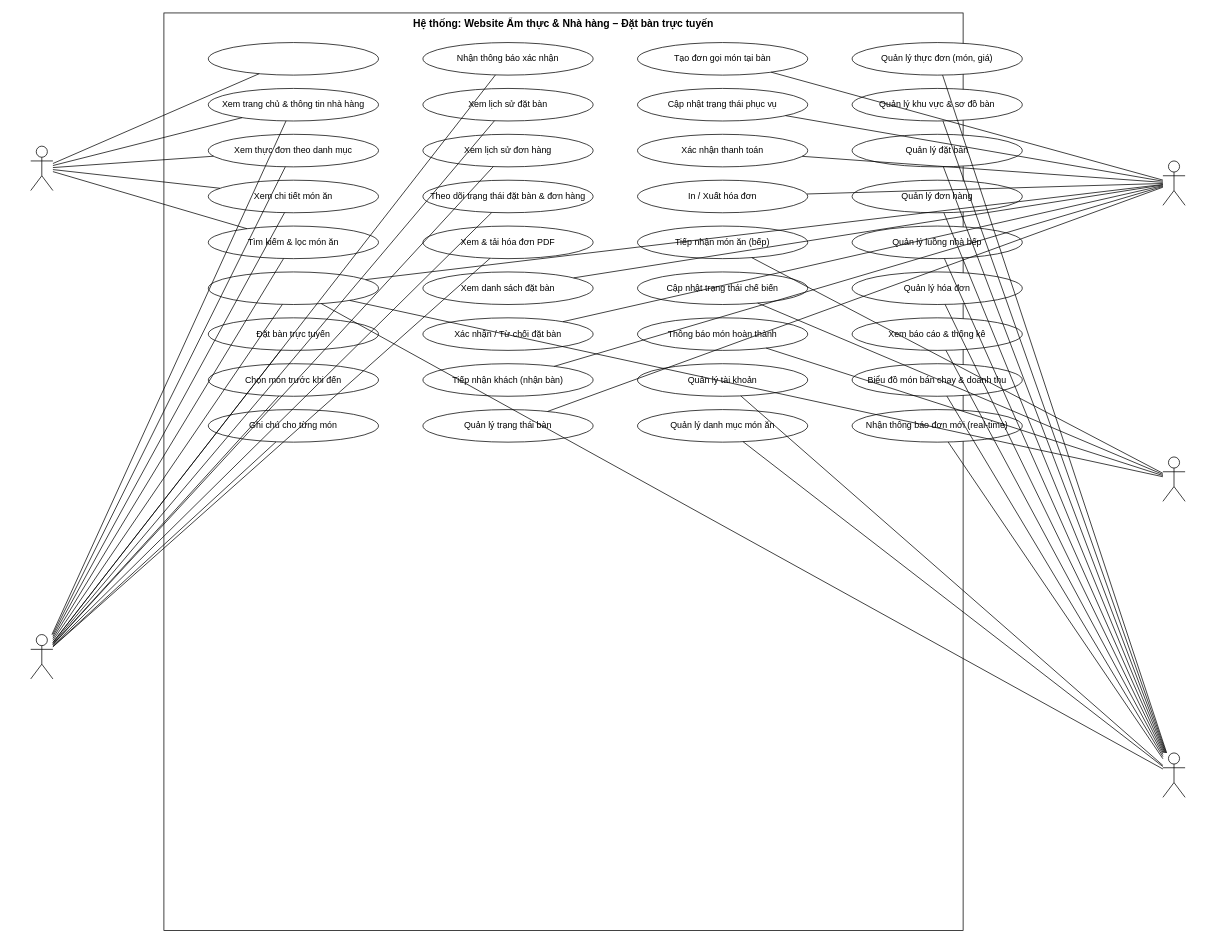
Some shapes in this 1228 by 944 pixel diagram are drawn without their labels. The shapes that lost their labels are listed below. From the top down, each one's box as (x1, y1, x2, y2) in pixels, then its label:
(208, 42, 379, 75): Đăng ký tài khoản
(30, 145, 53, 191): Khách vãng lai
(1162, 160, 1185, 205): Nhân viên phục vụ
(208, 271, 379, 305): Đăng nhập / Đăng xuất hệ thống
(1162, 456, 1185, 501): Nhân viên bếp
(30, 634, 53, 679): Khách hàng
(1162, 752, 1185, 797): Quản trị viên (Admin)
